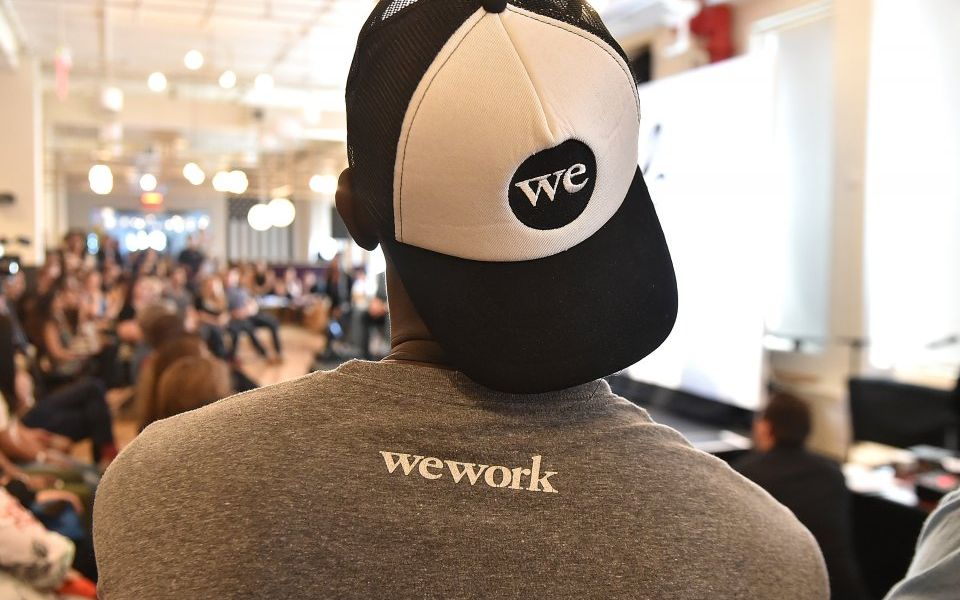wework: (379, 443, 564, 500), (504, 136, 601, 232)
